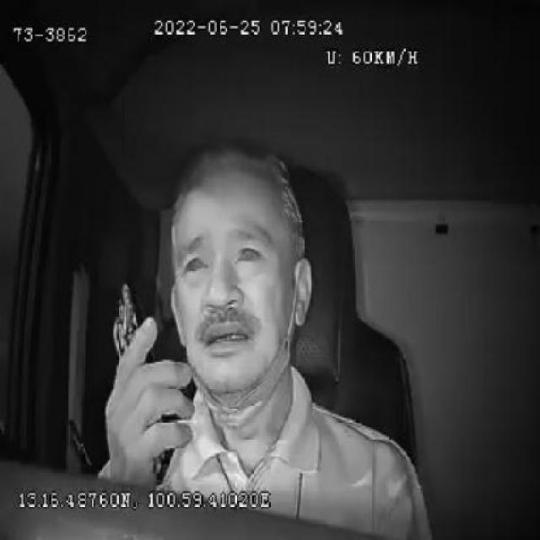phone: (110, 277, 177, 484)
